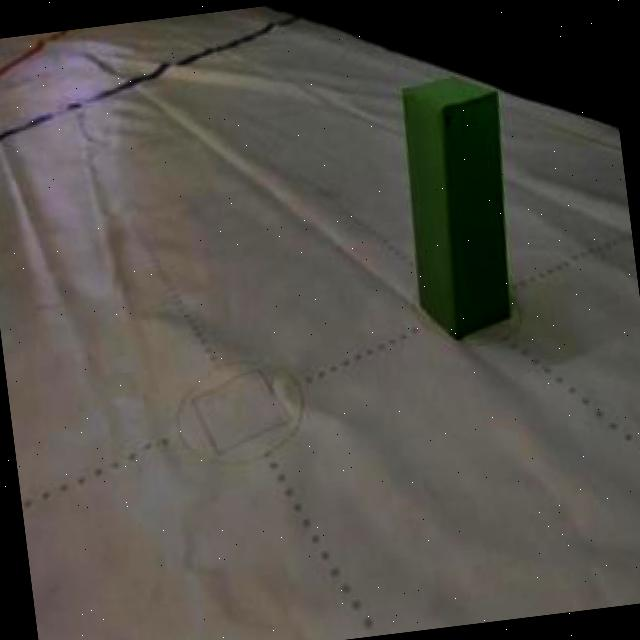greenbox: (391, 67, 528, 342)
